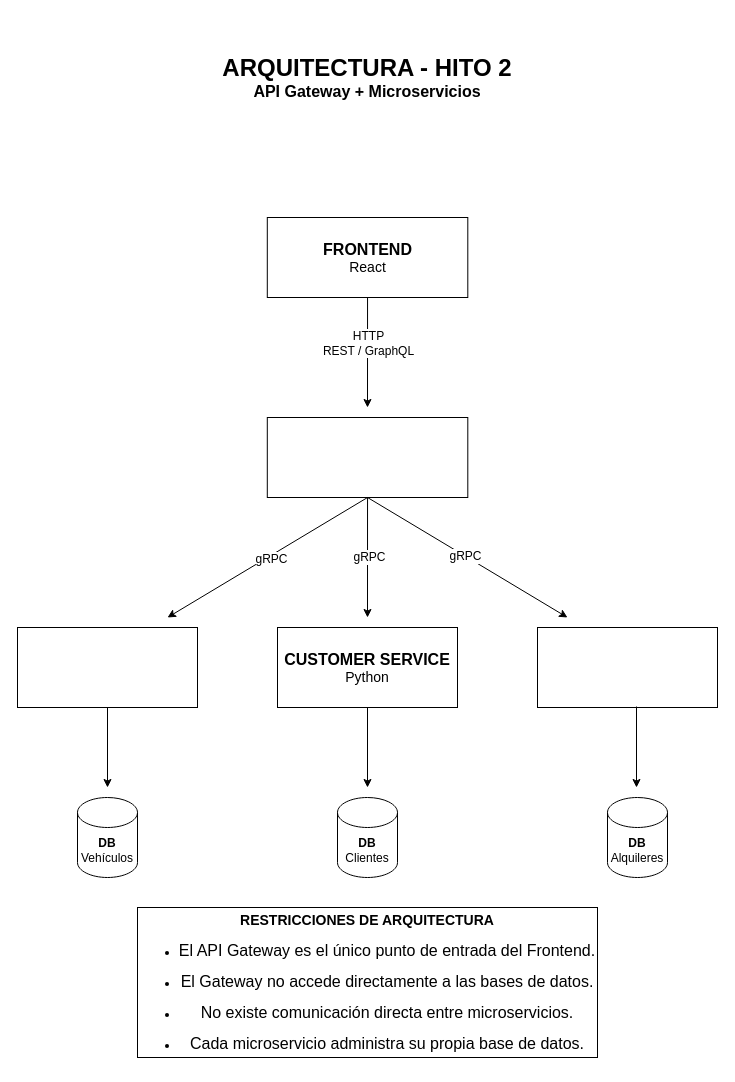
This 735x1082 diagram has some shape labels left out. Each missing label, with the centre of its shape:
API GATEWAY Node.js: [367,457]
RENTAL SERVICE Java: [627,667]
VEHICLE SERVICE Python: [107,667]
